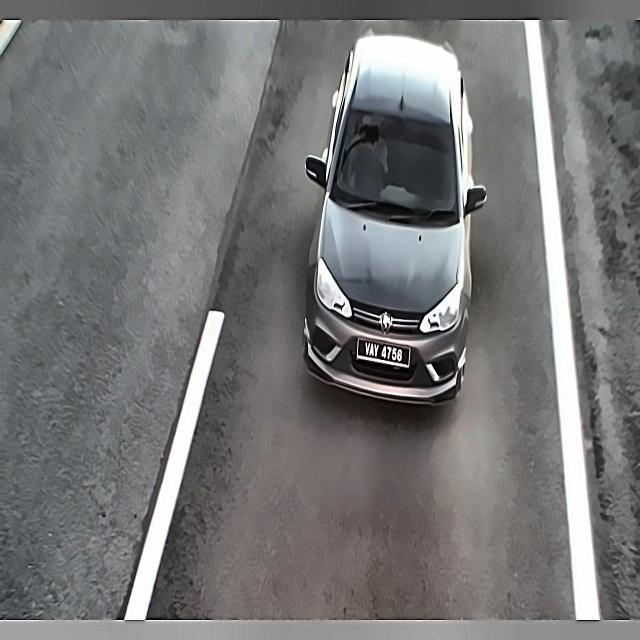car: (356, 330, 413, 379)
